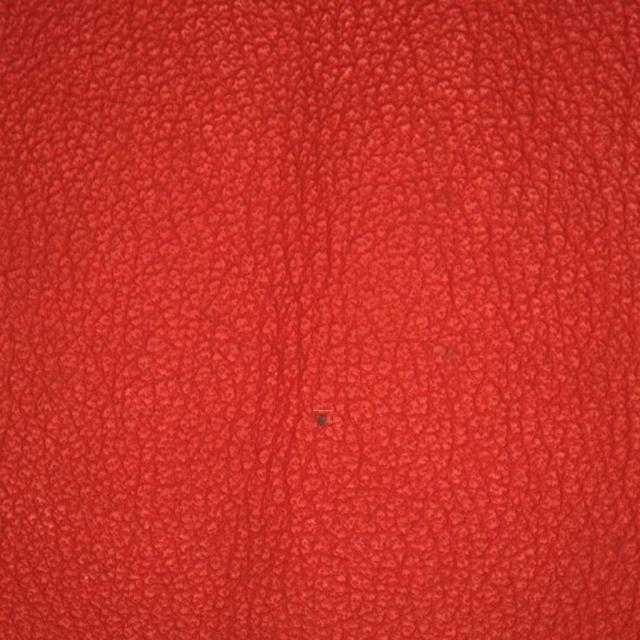Hole: (236, 346, 414, 494)
